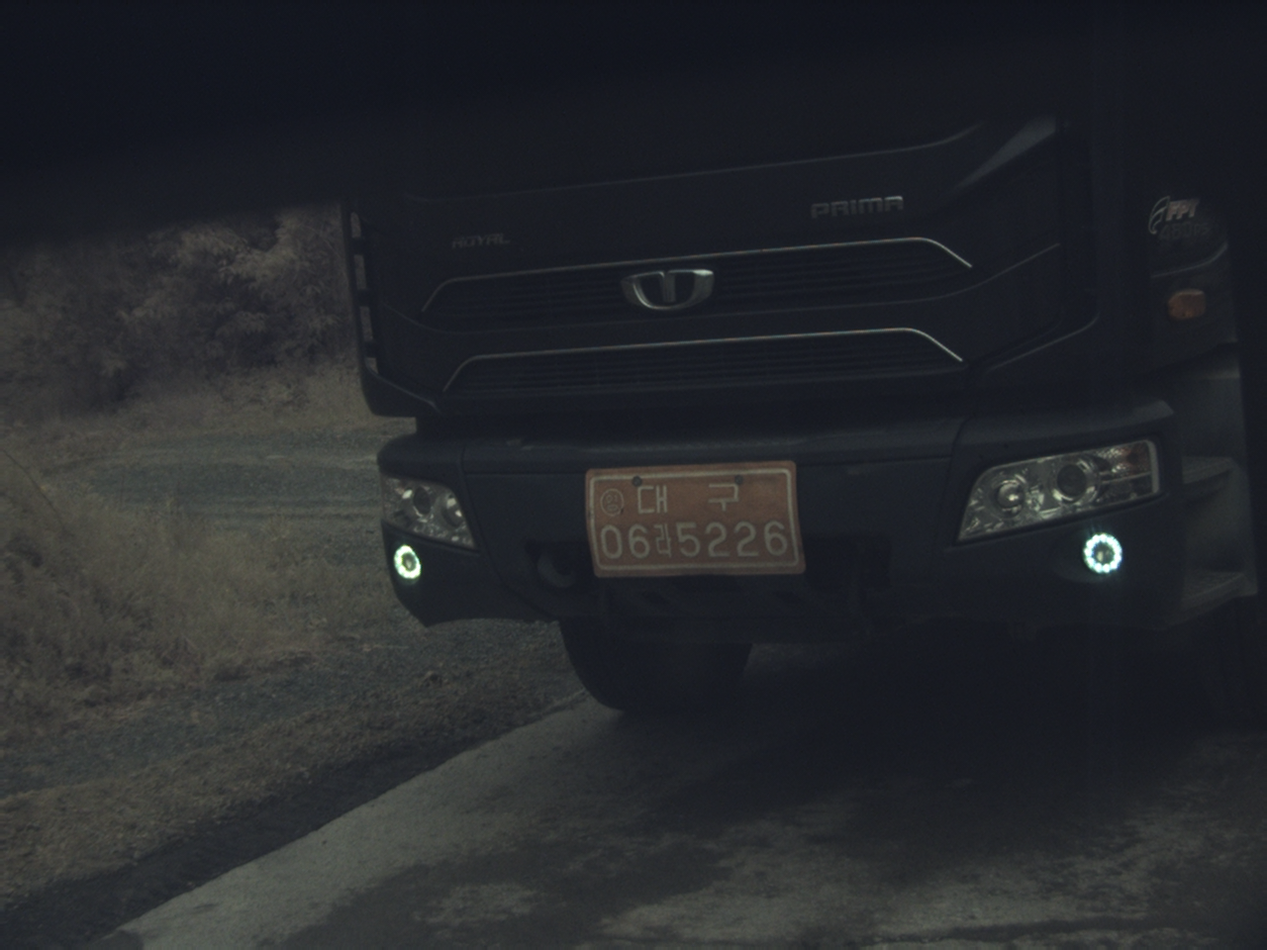license_plate: (586, 462, 804, 575)
truck: (346, 7, 1265, 720)
